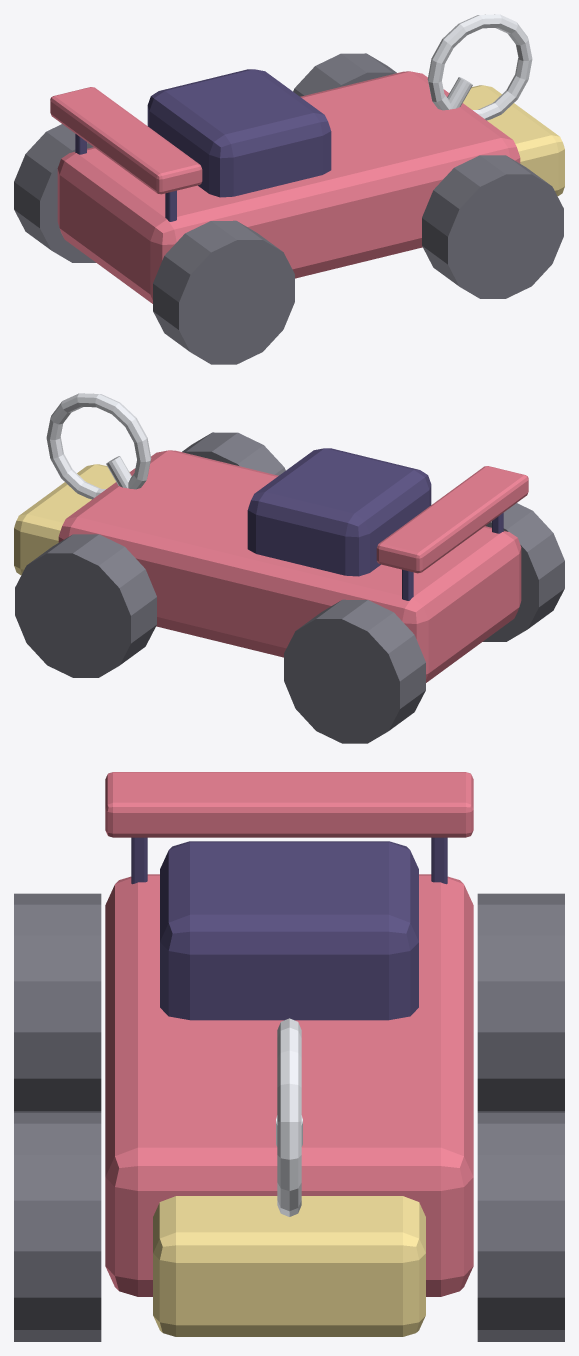
The model's file is gokart_story.glb.
3 views of the same model, one above another, from view 1: azimuth 30°, elevation 25°; view 2: azimuth 150°, elevation 25°; view 3: azimuth 270°, elevation 25° (orthographic). The views are drawn at different scales.
Visible parts, largest first — view 1: gokart_story.001; view 2: gokart_story.001; view 3: gokart_story.001.
Part boxes in pixels (x1,y1,x2,y2): gokart_story.001: (14,14,564,364); gokart_story.001: (14,393,564,743); gokart_story.001: (14,772,564,1341).
Size of the model in its own units: 3.07 by 1.41 by 2.02.
